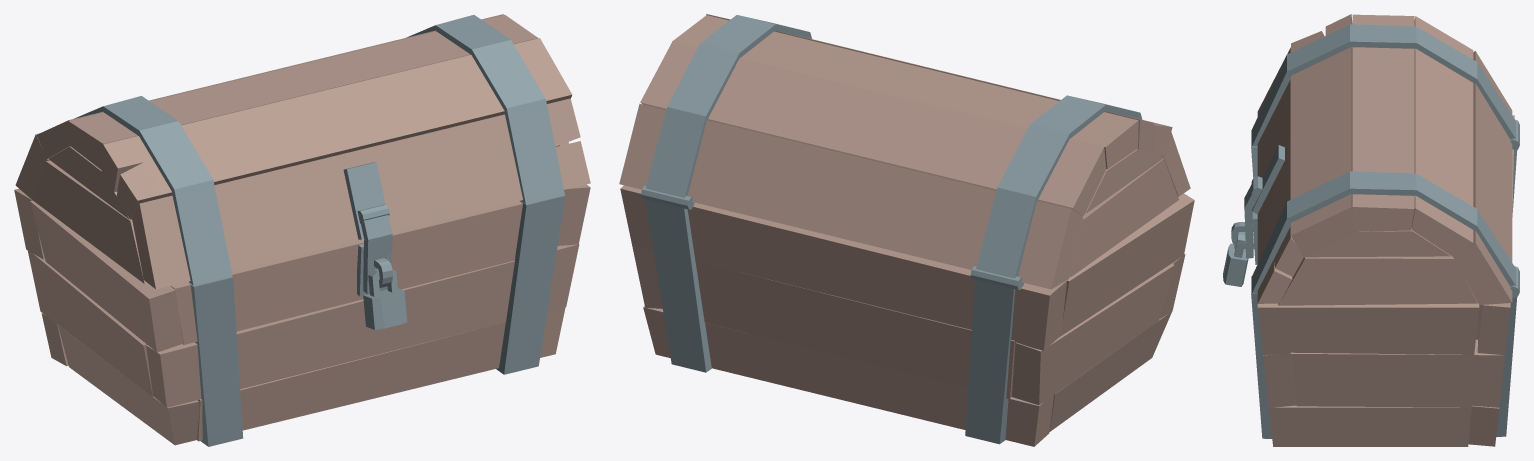
Rendered from Treasure Chest.fbx.
3 renders of one model, left to right at view 1: azimuth 30°, elevation 25°; view 2: azimuth 150°, elevation 25°; view 3: azimuth 270°, elevation 25°, orthographic. The views are drawn at different scales.
Parts seen in each view (by area): view 1: Treasure_trunk_Cube.026; view 2: Treasure_trunk_Cube.026; view 3: Treasure_trunk_Cube.026.
Boxes of the visible parts, x1,y1,x2,y2 form: Treasure_trunk_Cube.026: (14, 14, 590, 446); Treasure_trunk_Cube.026: (619, 14, 1194, 446); Treasure_trunk_Cube.026: (1223, 14, 1519, 446).
Bounding box in the file's own units: 1313 × 815 × 844.
